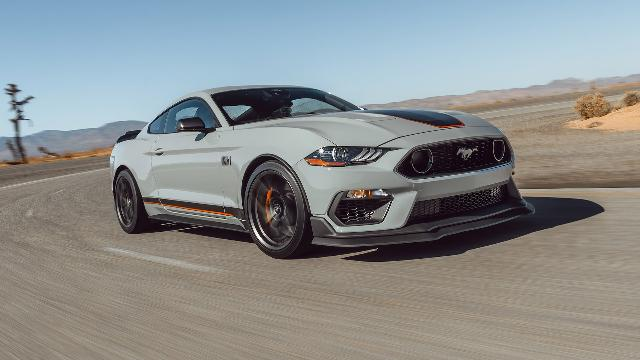ford-mustang: (109, 85, 536, 259)
